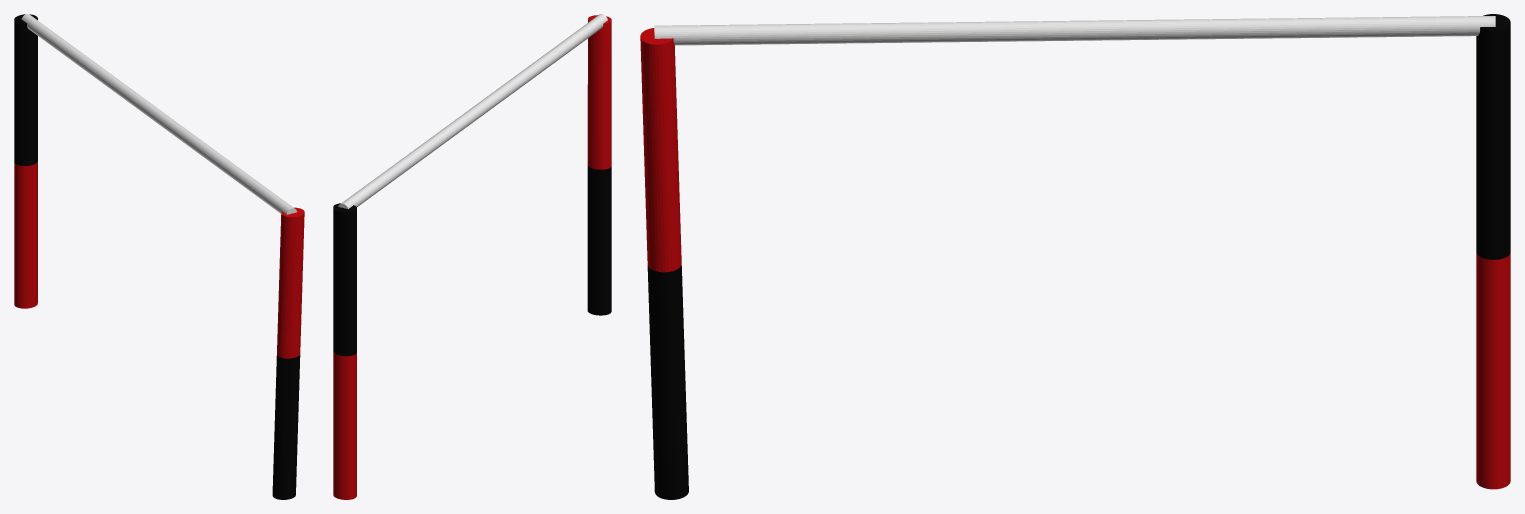
Rendered from gate.dae.
3 views of the same model, side by side, from view 1: azimuth 30°, elevation 25°; view 2: azimuth 150°, elevation 25°; view 3: azimuth 270°, elevation 25° (orthographic). The views are drawn at different scales.
Parts seen in each view (by area): view 1: Cylinder, Cylinder.004, Cylinder.001, Cylinder.003, Cylinder.002; view 2: Cylinder, Cylinder.003, Cylinder.002, Cylinder.004, Cylinder.001; view 3: Cylinder, Cylinder.002, Cylinder.004, Cylinder.001, Cylinder.003.
Boxes of the visible parts, x1,y1,x2,y2 form: Cylinder: (21,14,296,214); Cylinder.004: (277,207,304,358); Cylinder.001: (14,161,37,308); Cylinder.003: (272,354,300,499); Cylinder.002: (14,14,37,165); Cylinder: (338,14,607,208); Cylinder.003: (587,165,611,315); Cylinder.002: (333,203,356,356); Cylinder.004: (587,15,611,169); Cylinder.001: (333,352,356,499); Cylinder: (654,16,1495,45); Cylinder.002: (1476,14,1510,259); Cylinder.004: (640,28,681,272); Cylinder.001: (1476,252,1510,489); Cylinder.003: (647,265,688,499).
Bounding box in the file's own units: 0.2117 × 3.52 × 2.11.
